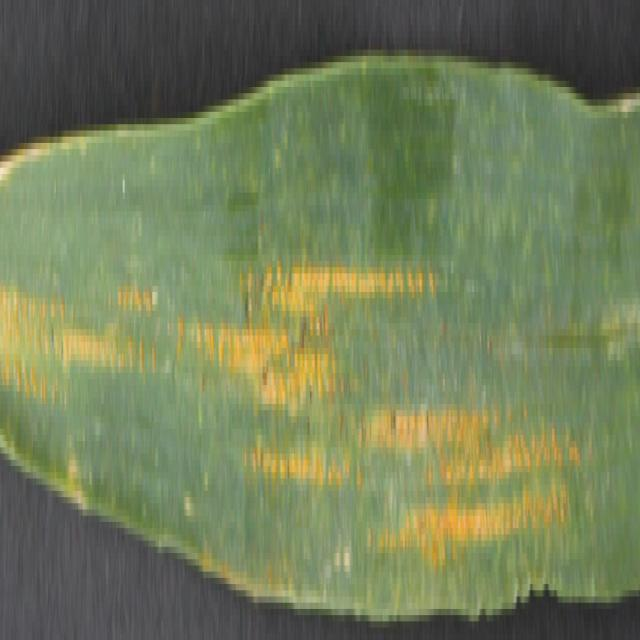leaf rust: (1, 130, 583, 602)
